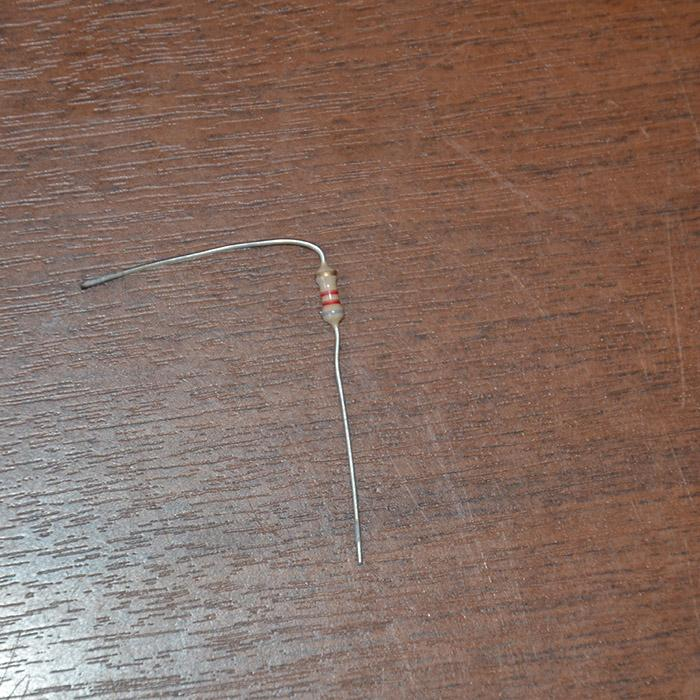resistor: (315, 265, 344, 325)
